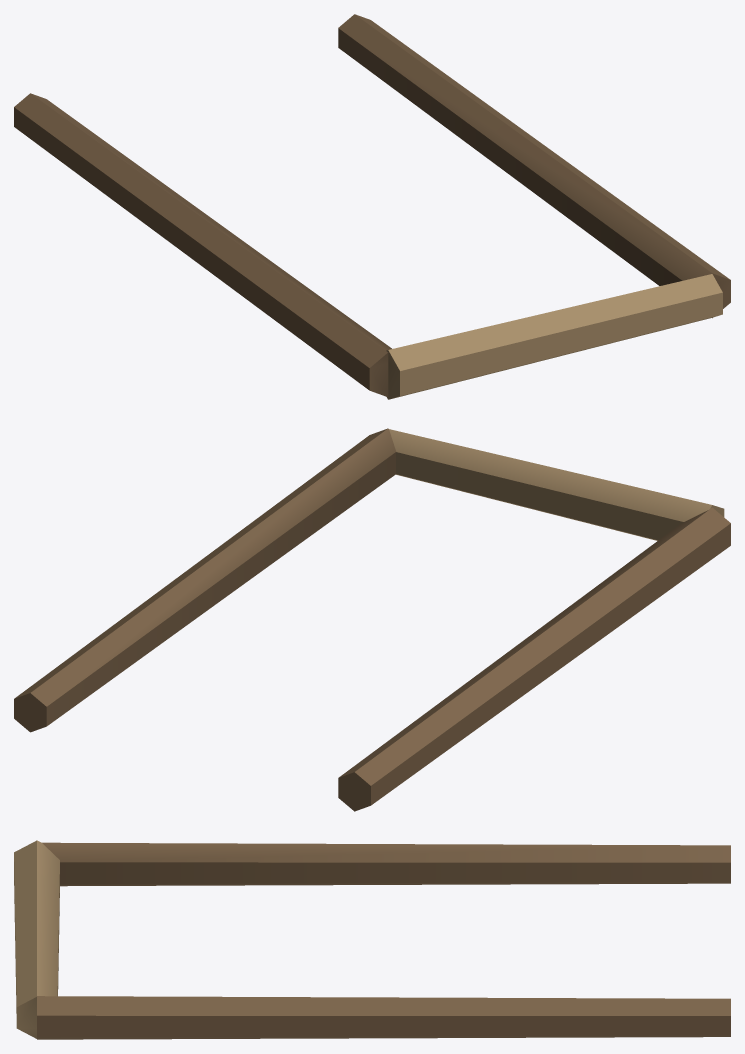
File: cart_handle.glb
3 views of the same model, one above another, from view 1: azimuth 30°, elevation 25°; view 2: azimuth 150°, elevation 25°; view 3: azimuth 270°, elevation 25° (orthographic). The views are drawn at different scales.
Parts seen in each view (by area): view 1: cart_handle; view 2: cart_handle; view 3: cart_handle.
Boxes of the visible parts, x1,y1,x2,y2 form: cart_handle: (14, 14, 730, 399); cart_handle: (14, 428, 730, 811); cart_handle: (14, 840, 730, 1039).
Bounding box in the file's own units: 0.7579 × 0.1 × 1.34.
